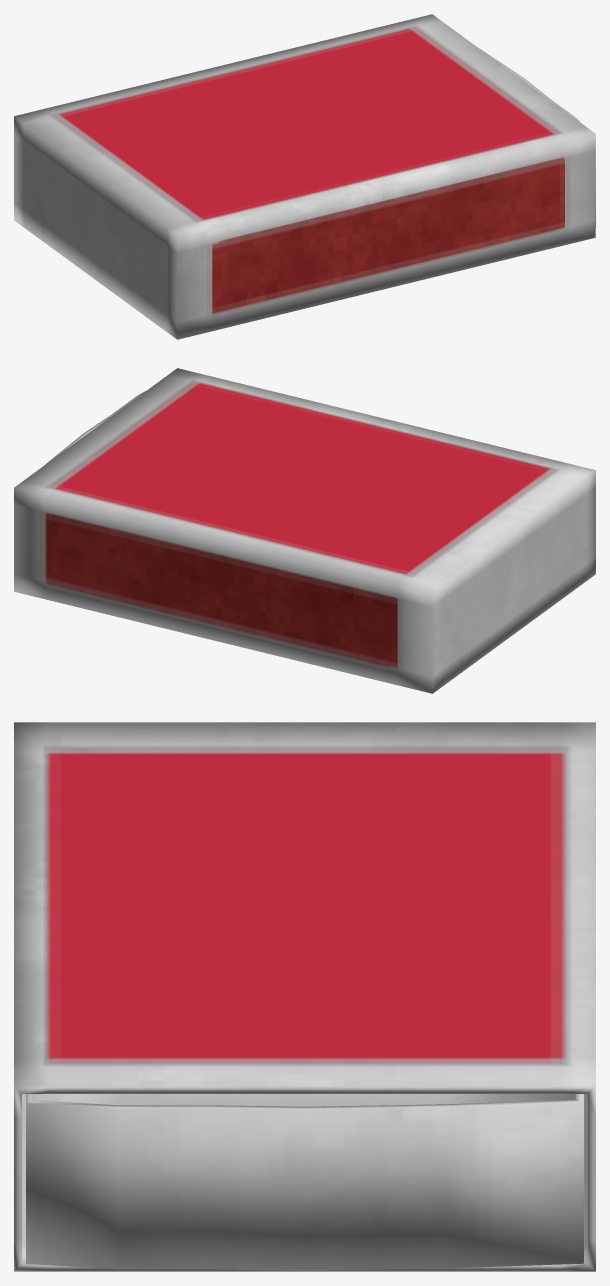
Rendered from marches_box_close.fbx.
3 renders of one model, top to bottom at view 1: azimuth 30°, elevation 25°; view 2: azimuth 150°, elevation 25°; view 3: azimuth 270°, elevation 25°, orthographic. The views are drawn at different scales.
Parts seen in each view (by area): view 1: matches_box_close; view 2: matches_box_close; view 3: matches_box_close.
Part boxes in pixels (<box>): matches_box_close: <box>14,14,595,339</box>; matches_box_close: <box>14,368,595,693</box>; matches_box_close: <box>14,722,595,1271</box>.
Size of the model in its own units: 46.06 by 30.3 by 10.65.
